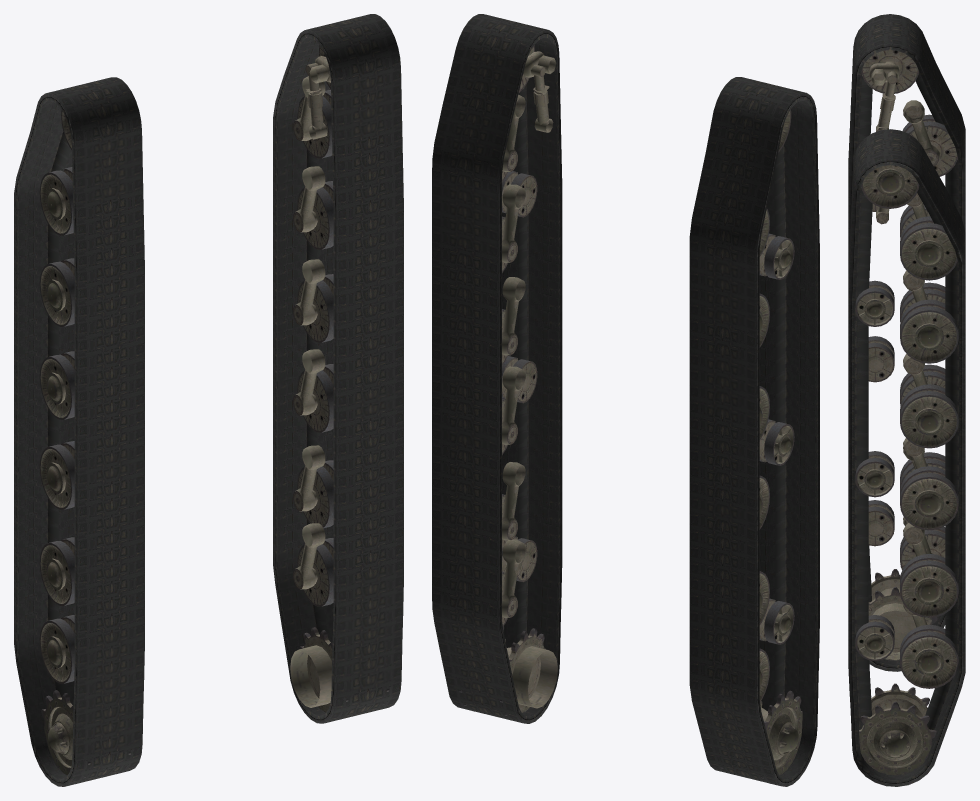
Rendered from Chassis.glb.
3 views of the same model, side by side, from view 1: azimuth 30°, elevation 25°; view 2: azimuth 150°, elevation 25°; view 3: azimuth 270°, elevation 25° (orthographic). The views are drawn at different scales.
Parts seen in each view (by area): view 1: set_2_group_0, set_3_group_0, set_0_group_0, set_1_group_0; view 2: set_2_group_0, set_3_group_0, set_0_group_0, set_1_group_0; view 3: set_0_group_0, set_3_group_0, set_1_group_0, set_2_group_0.
Boxes of the visible parts, x1,y1,x2,y2 form: set_2_group_0: (14,77,144,786); set_3_group_0: (273,14,403,723); set_0_group_0: (290,45,389,712); set_1_group_0: (39,110,131,778); set_2_group_0: (689,77,819,786); set_3_group_0: (432,14,562,723); set_0_group_0: (459,45,557,715); set_1_group_0: (720,109,802,783); set_0_group_0: (855,165,958,775); set_3_group_0: (848,129,965,786); set_1_group_0: (861,50,957,660); set_2_group_0: (848,14,965,671).
Bounding box in the file's own units: 3.25 × 6.48 × 1.1.
Materials: 4 (4 with a texture image).
